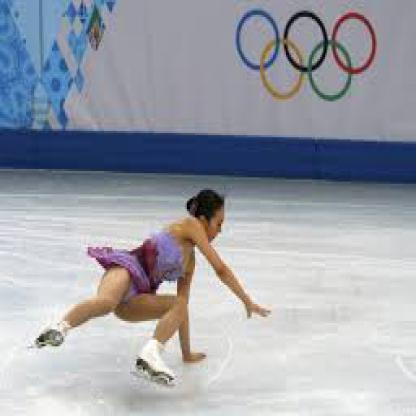Fall_Down: (33, 186, 270, 382)
